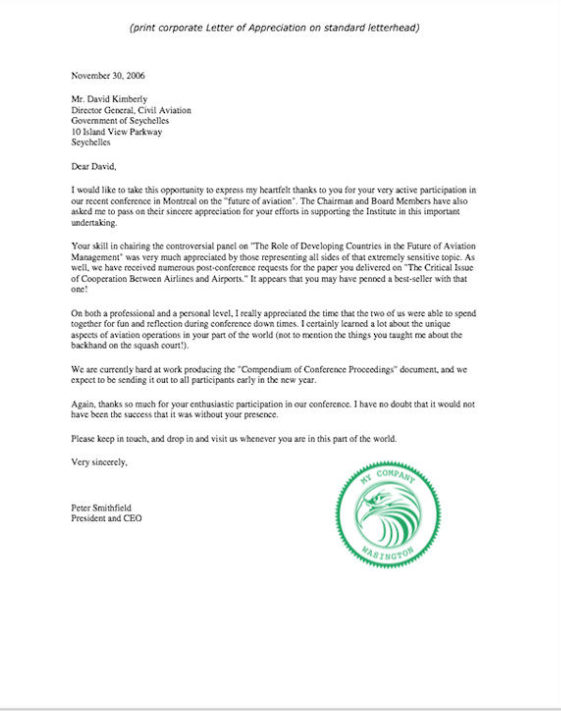Round chop: (330, 458, 446, 573)
